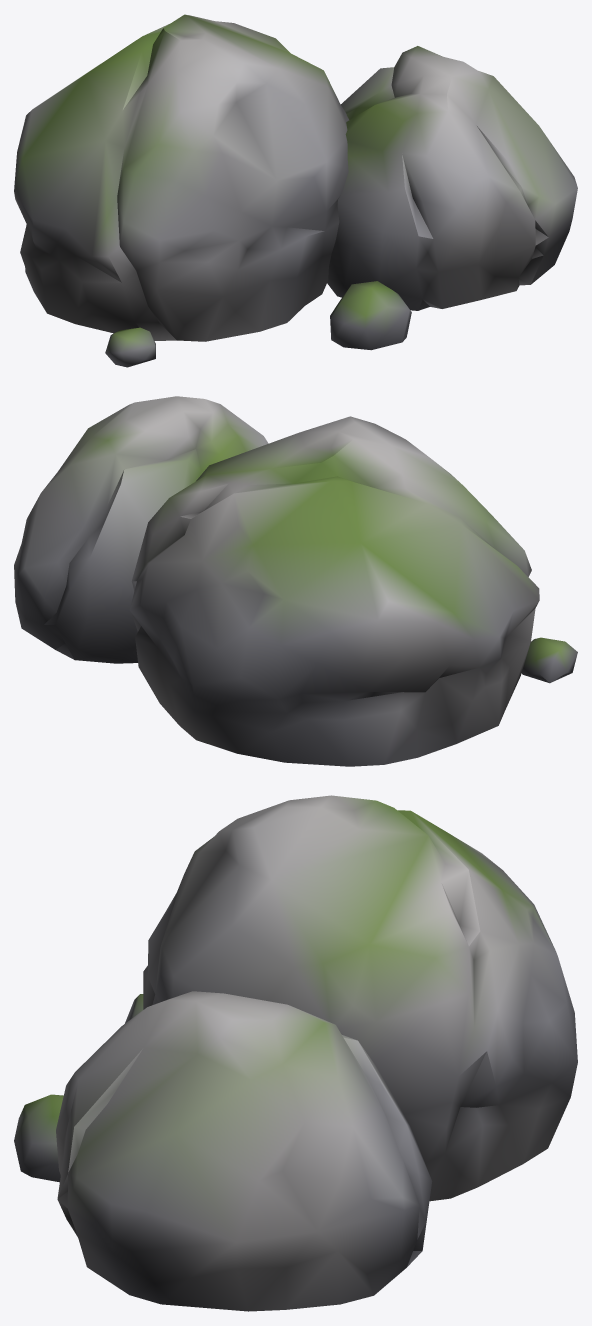
The model's file is rock-whole-v3.glb.
3 views of the same model, one above another, from view 1: azimuth 30°, elevation 25°; view 2: azimuth 150°, elevation 25°; view 3: azimuth 270°, elevation 25° (orthographic). The views are drawn at different scales.
Parts seen in each view (by area): view 1: 0_rock; view 2: 0_rock; view 3: 0_rock.
Boxes of the visible parts, left/top/right/bottom form: 0_rock: left=14, top=14, right=577, bottom=367; 0_rock: left=14, top=396, right=577, bottom=766; 0_rock: left=14, top=795, right=577, bottom=1311.
Size of the model in its own units: 2.47 by 1.19 by 1.95.
